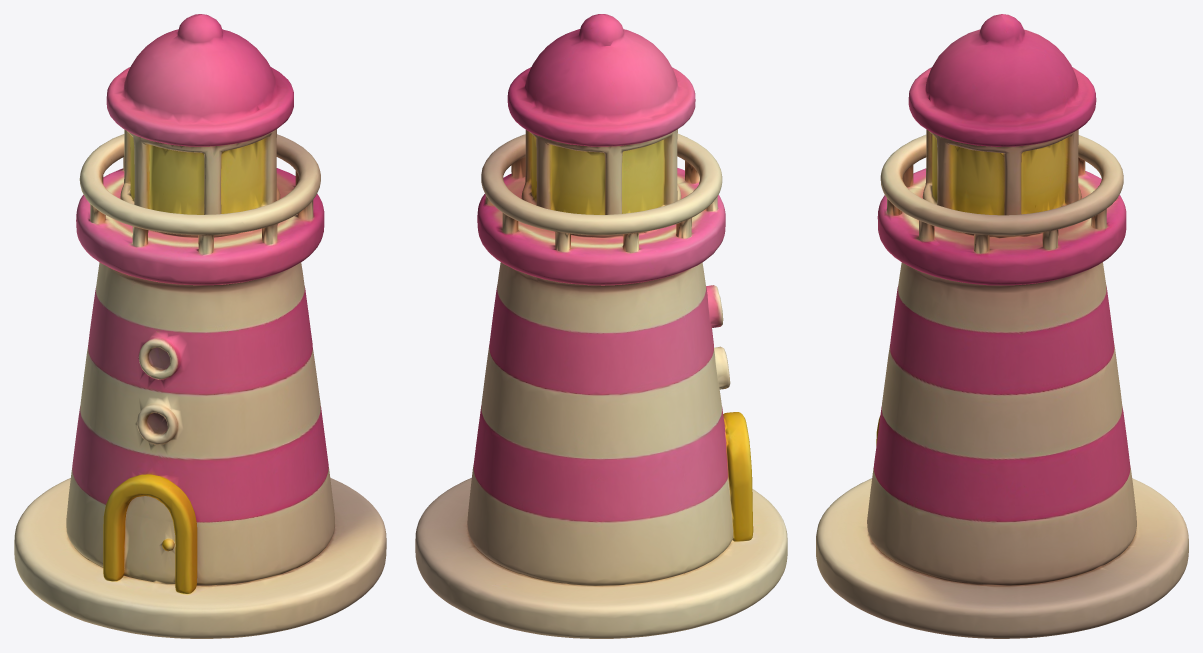
Rendered from lighthouse.glb.
3 renders of one model, left to right at view 1: azimuth 30°, elevation 25°; view 2: azimuth 150°, elevation 25°; view 3: azimuth 270°, elevation 25°, orthographic.
Visible parts, largest first — view 1: tripo_node_8046df53-c4cc-4998-b5ba-59eda42adc88; view 2: tripo_node_8046df53-c4cc-4998-b5ba-59eda42adc88; view 3: tripo_node_8046df53-c4cc-4998-b5ba-59eda42adc88.
Boxes of the visible parts, x1,y1,x2,y2 form: tripo_node_8046df53-c4cc-4998-b5ba-59eda42adc88: (14, 14, 386, 638); tripo_node_8046df53-c4cc-4998-b5ba-59eda42adc88: (415, 14, 787, 638); tripo_node_8046df53-c4cc-4998-b5ba-59eda42adc88: (816, 14, 1188, 638).
Size of the model in its own units: 0.6152 by 1 by 0.6147.
Materials: 1 (1 with a texture image).
